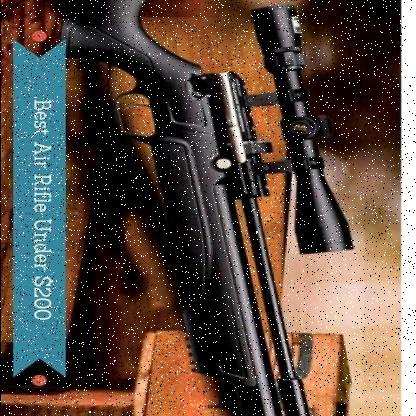rifle: (73, 8, 364, 405)
